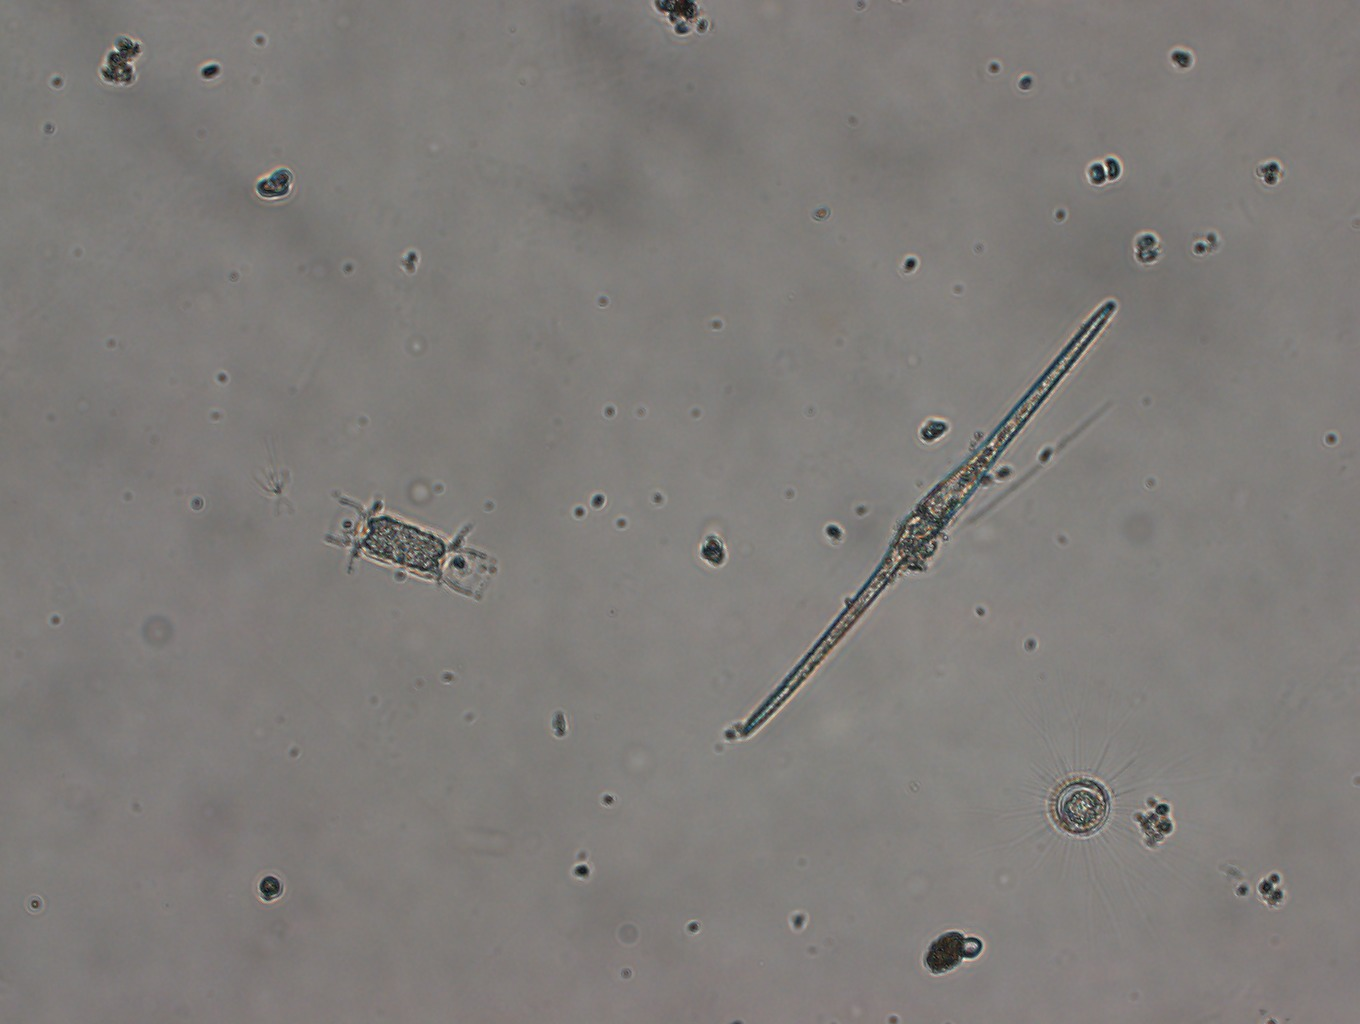ceratium fusus: (736, 297, 1123, 742)
chaetoceros: (323, 490, 496, 601)
